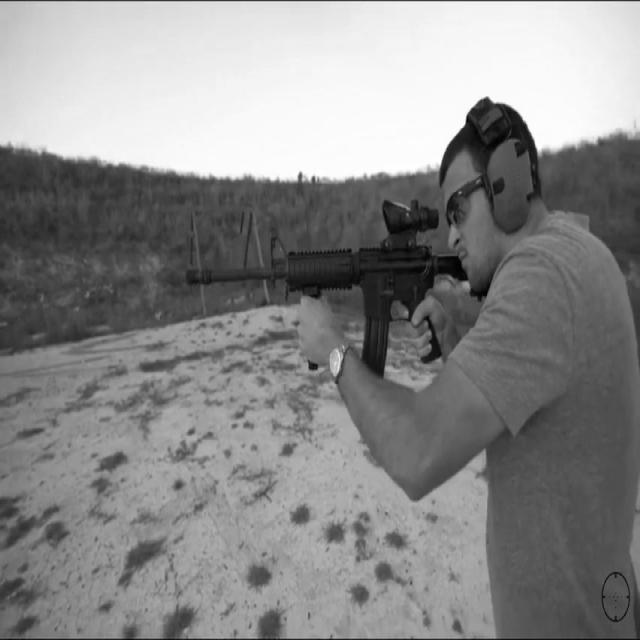Sniper: (152, 166, 490, 376)
